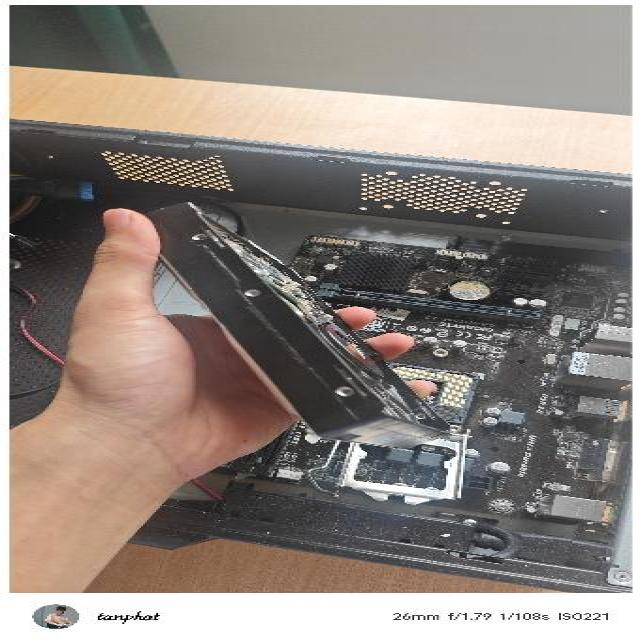DISK: (122, 198, 460, 453)
